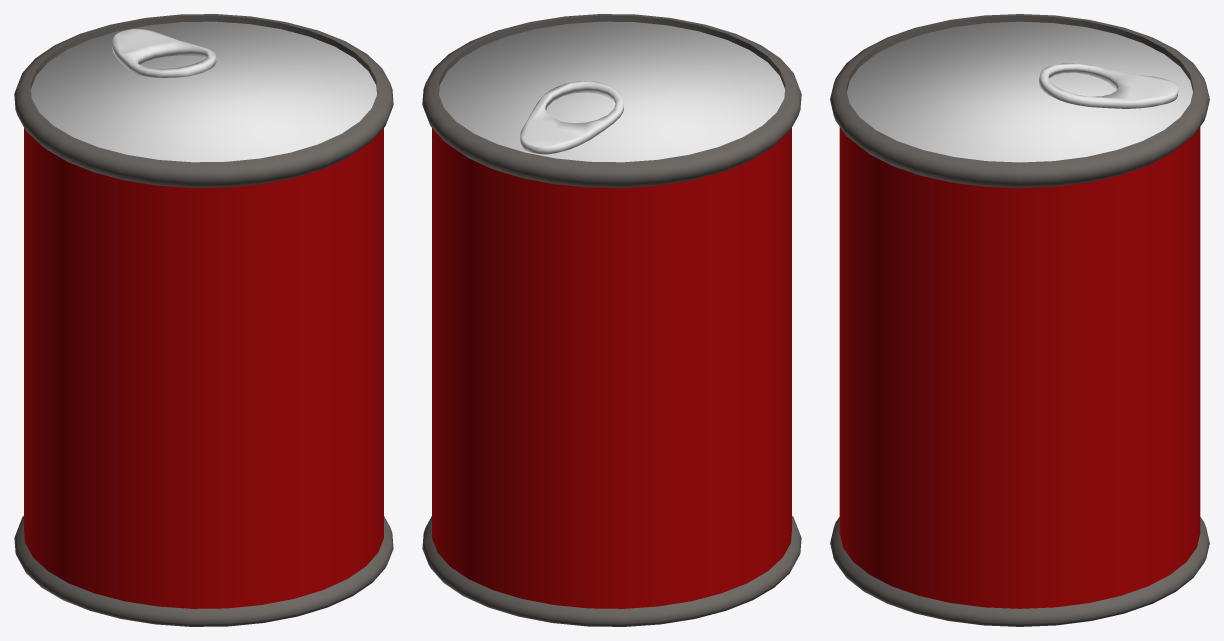
File: F_Can_01.fbx
3 views of the same model, side by side, from view 1: azimuth 30°, elevation 25°; view 2: azimuth 150°, elevation 25°; view 3: azimuth 270°, elevation 25° (orthographic).
Parts seen in each view (by area): view 1: F_Can_01.001, F_Lid_01.001; view 2: F_Can_01.001, F_Lid_01.001; view 3: F_Can_01.001, F_Lid_01.001.
Part boxes in pixels (<box>): F_Can_01.001: <box>14,14,393,626</box>; F_Lid_01.001: <box>31,21,376,162</box>; F_Can_01.001: <box>422,14,801,626</box>; F_Lid_01.001: <box>439,21,784,162</box>; F_Can_01.001: <box>830,14,1209,626</box>; F_Lid_01.001: <box>847,21,1192,162</box>.
Bounding box in the file's own units: 7.88 × 10.85 × 7.88.
